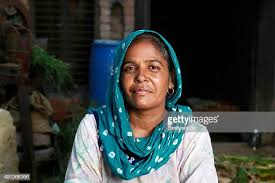indian_female: (97, 31, 192, 111)
